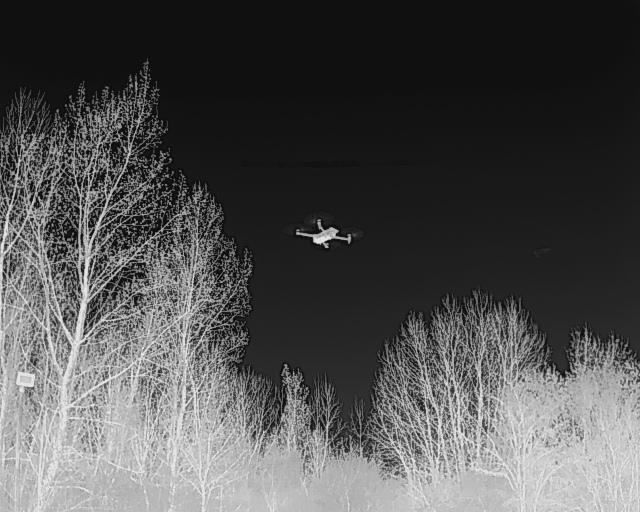drone: (281, 209, 367, 259)
